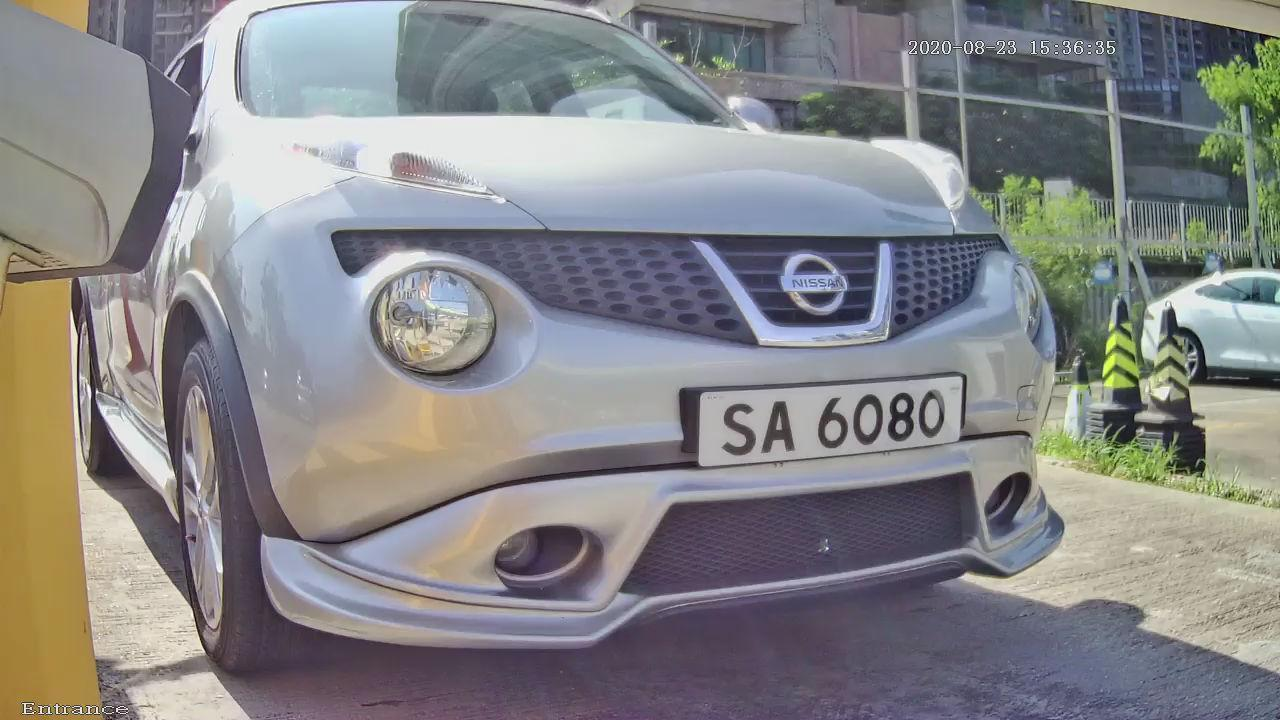Car: (35, 1, 1155, 720)
License Plate: (622, 311, 1011, 530)
